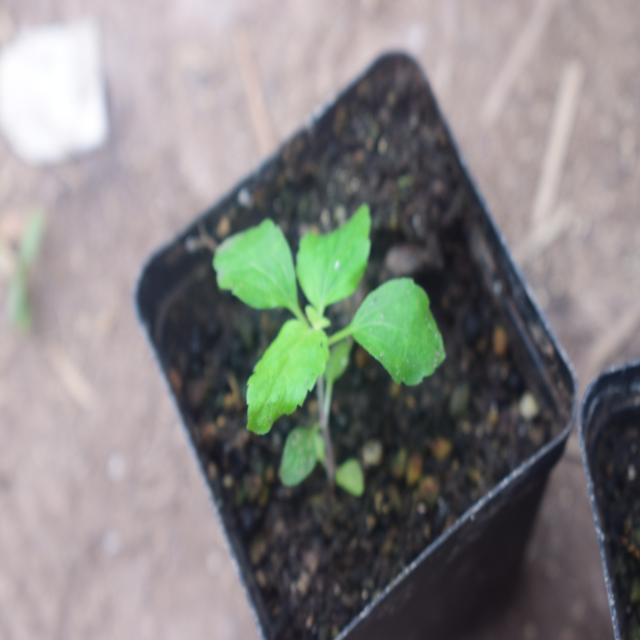billygoat_weed: (216, 202, 442, 491)
